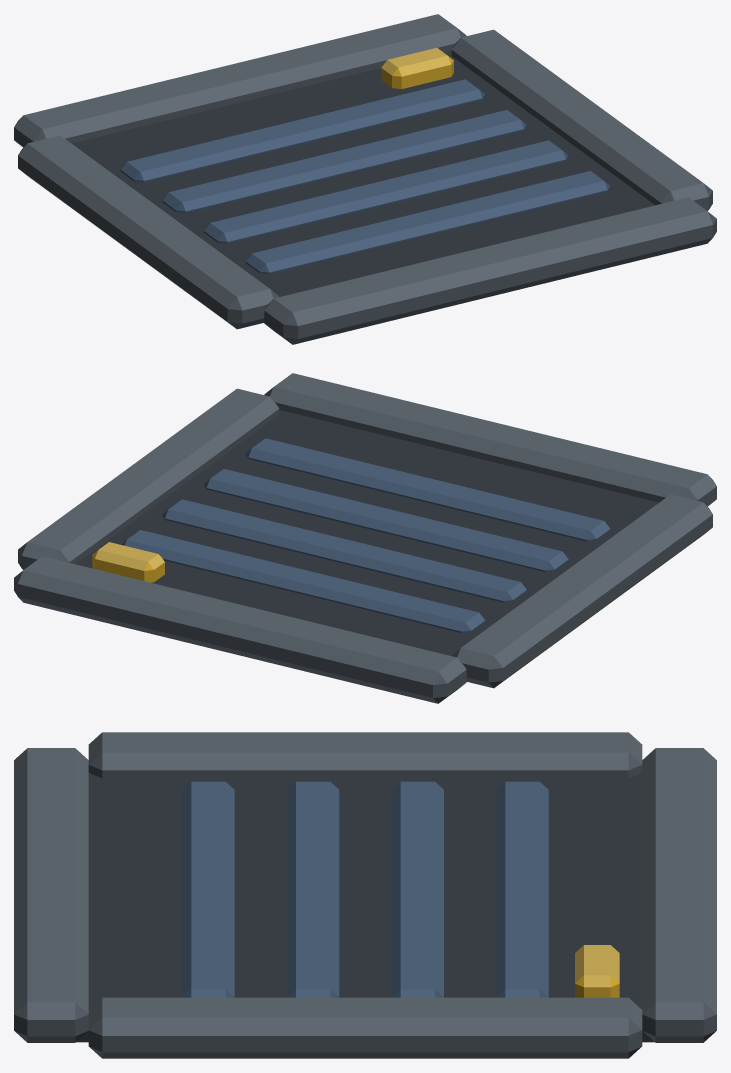
The model's file is floor-hatch.glb.
3 views of the same model, one above another, from view 1: azimuth 30°, elevation 25°; view 2: azimuth 150°, elevation 25°; view 3: azimuth 270°, elevation 25° (orthographic). The views are drawn at different scales.
Visible parts, largest first — view 1: mesh_floor_hatch; view 2: mesh_floor_hatch; view 3: mesh_floor_hatch.
Part boxes in pixels (bbox=[...]): mesh_floor_hatch: bbox=[14, 14, 716, 344]; mesh_floor_hatch: bbox=[14, 373, 716, 703]; mesh_floor_hatch: bbox=[14, 732, 716, 1058].
Bounding box in the file's own units: 0.94 × 0.065 × 0.94.
